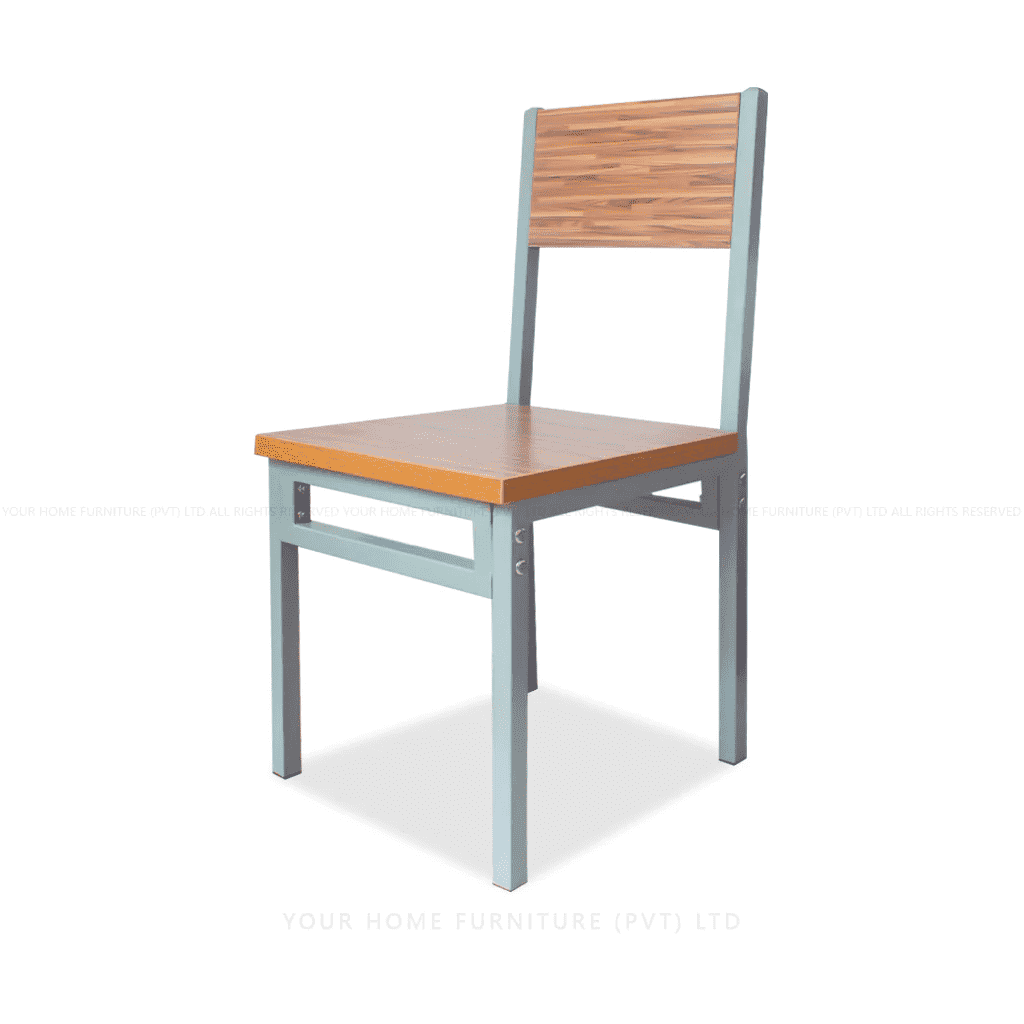chair: (262, 86, 780, 898)
